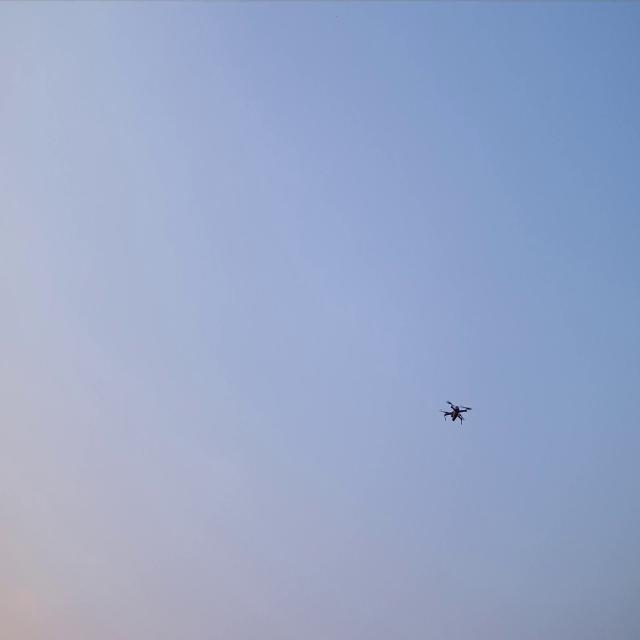UAV: (437, 400, 473, 426)
